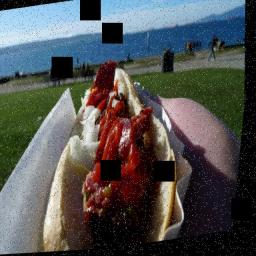hotdog: (33, 49, 206, 254)
